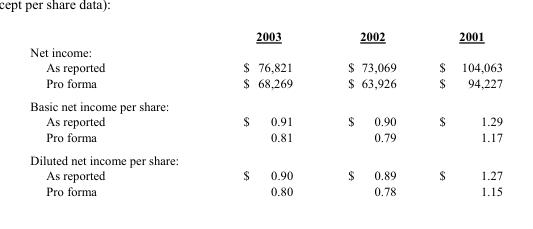table: (29, 28, 502, 197)
table column: (173, 28, 319, 197), (29, 28, 173, 197), (319, 28, 417, 197), (417, 28, 502, 197)
table column header: (29, 28, 502, 43)
table projected row header: (29, 93, 502, 113), (29, 148, 502, 167), (29, 43, 502, 59)
table row: (29, 93, 502, 113), (29, 128, 502, 148), (29, 74, 502, 93), (29, 148, 502, 167), (29, 43, 502, 59), (29, 28, 502, 43), (29, 59, 502, 74), (29, 113, 502, 128), (29, 167, 502, 182), (29, 182, 502, 197)
